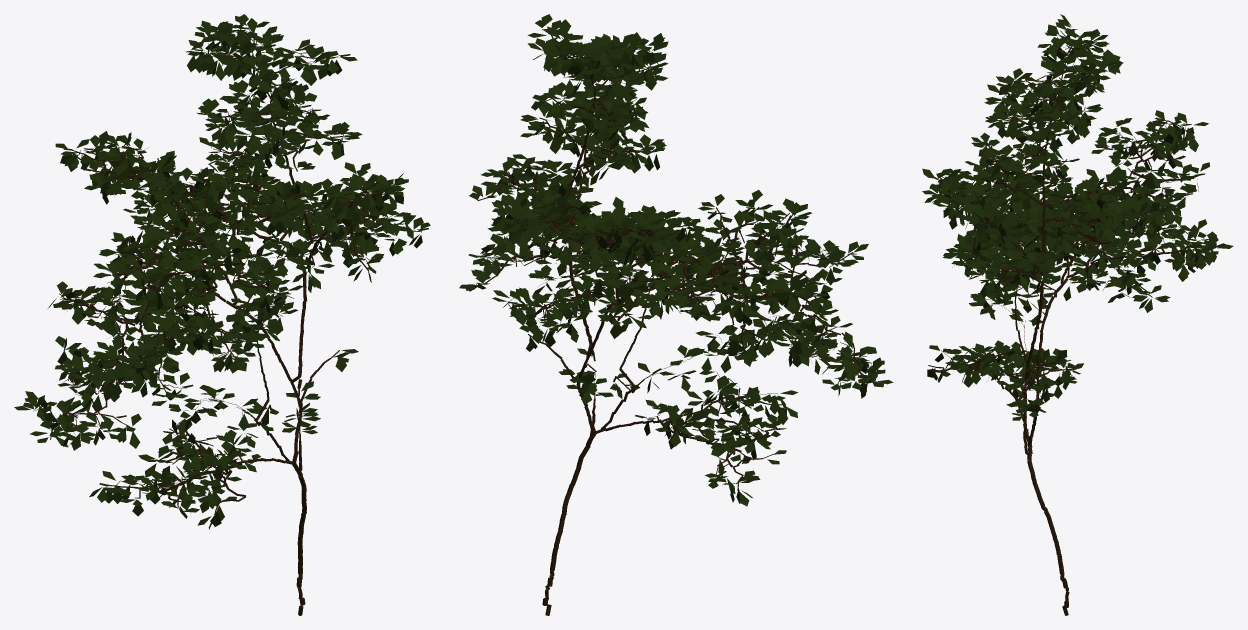
File: tree_395.obj
3 renders of one model, left to right at view 1: azimuth 30°, elevation 25°; view 2: azimuth 150°, elevation 25°; view 3: azimuth 270°, elevation 25°, orthographic. The views are drawn at different scales.
Parts seen in each view (by area): view 1: Leaves, TrunkAndBranches; view 2: Leaves, TrunkAndBranches; view 3: Leaves, TrunkAndBranches.
Boxes of the visible parts, <box> form: Leaves: <box>14,14,430,529</box>; TrunkAndBranches: <box>33,27,421,615</box>; Leaves: <box>459,14,893,506</box>; TrunkAndBranches: <box>476,29,872,615</box>; Leaves: <box>922,14,1233,420</box>; TrunkAndBranches: <box>928,36,1207,615</box>.
Size of the model in its own units: 6.94 by 9.98 by 5.1.
